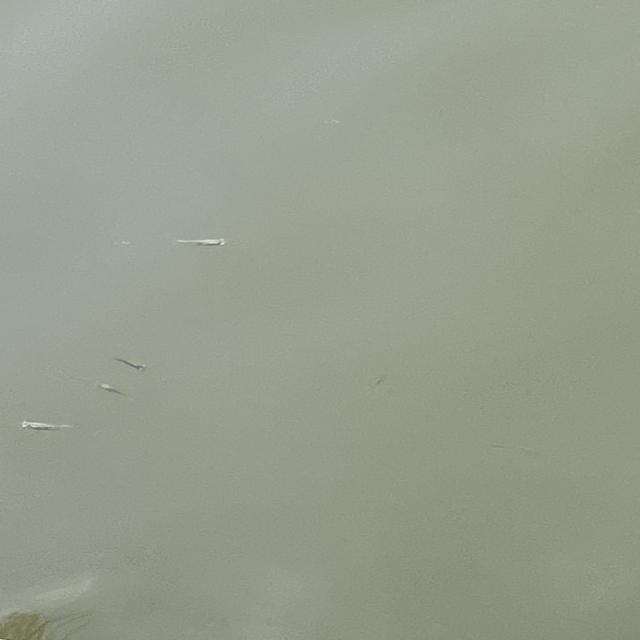Sivrisinek Baligi: (170, 230, 232, 251), (16, 414, 80, 434), (93, 380, 130, 398), (109, 354, 148, 371)
